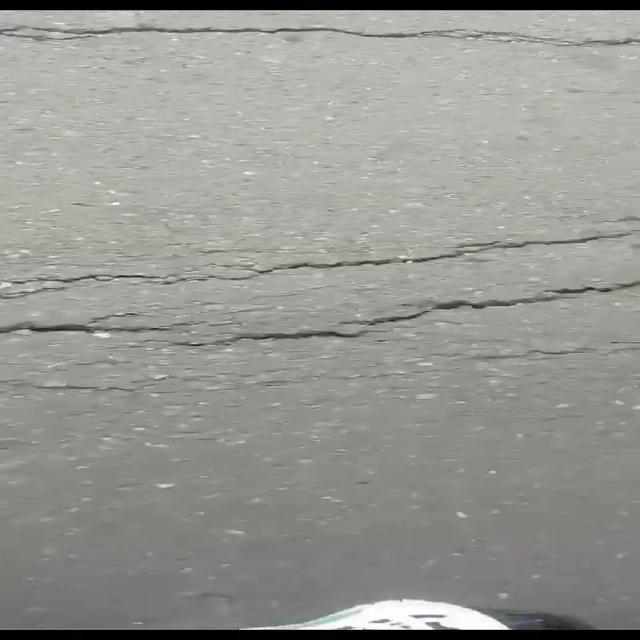Melintang: (0, 209, 640, 316), (0, 260, 640, 360)
